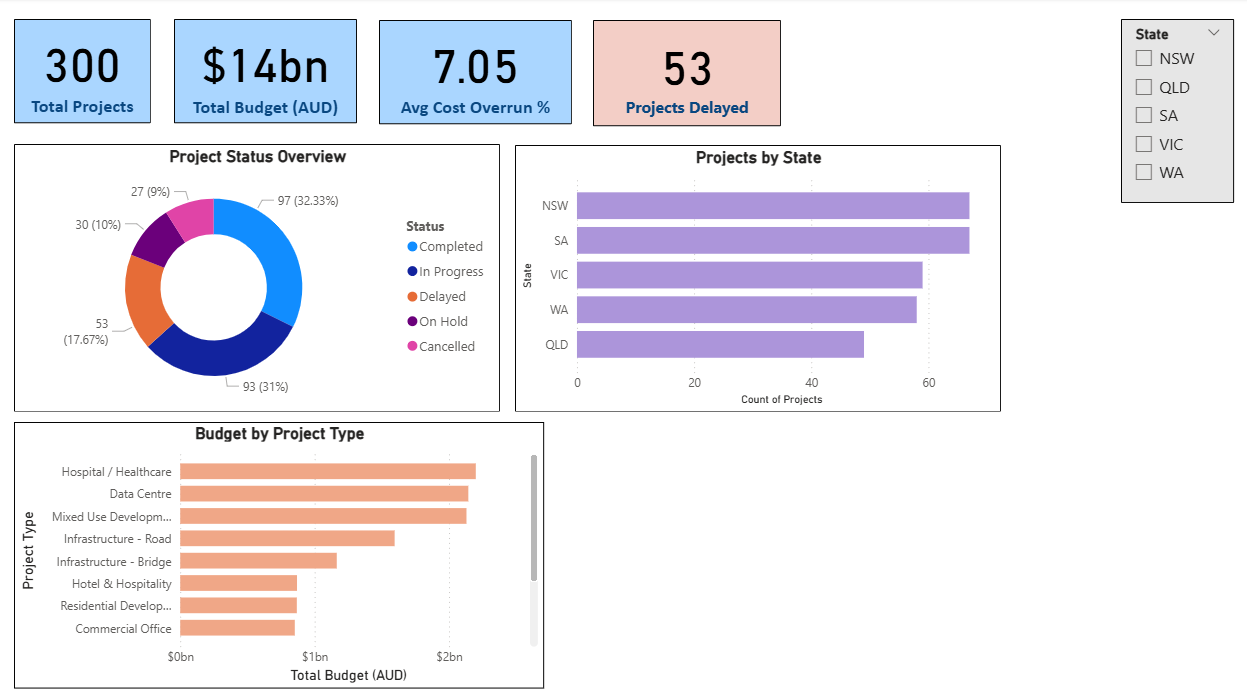

What the dashboard file says about the page in this screenshot:
{"tool":"powerbi","page":{"name":"Portfolio Overviw","canvas":[1280,720],"ordinal":0},"visuals":[{"type":"card","fields":{"Values":["CountNonNull(SiteBook_Projects.Project_ID)"]},"box":[18.3,21.4,139.3,105.7],"z":0},{"type":"card","fields":{"Values":["Sum(SiteBook_Projects.Budget_AUD)"]},"box":[180.9,21.8,186.1,106.1],"z":1000},{"type":"card","fields":{"Values":["Avg(SiteBook_Projects.Cost_Overrun_Pct)"]},"box":[389.4,22.4,196.2,105.7],"z":2000},{"type":"card","fields":{"Values":["SiteBook_Projects.Projects Delayed"]},"box":[607,22.4,191.1,107.8],"z":3000},{"type":"donutChart","title":"Project Status Overview","fields":{"Category":["SiteBook_Projects.Status"],"Y":["CountNonNull(SiteBook_Projects.Project_ID)"]},"box":[18.7,148.7,493.9,272.4],"z":4000},{"type":"clusteredBarChart","title":"Projects by State","fields":{"Category":["SiteBook_Projects.State"],"Y":["CountNonNull(SiteBook_Projects.Project_ID)"]},"box":[527.2,149.7,493.9,271.4],"z":5000},{"type":"clusteredBarChart","title":"Budget by Project Type","fields":{"Category":["SiteBook_Projects.Project_Type"],"Y":["Sum(SiteBook_Projects.Budget_AUD)"]},"box":[18.7,431.5,538.6,271.4],"z":6000},{"type":"slicer","fields":{"Values":["SiteBook_Projects.State"]},"box":[1143.8,21.8,115.4,187.2],"z":7000}]}

Visuals, with their boxes in screenshot pixels (x1, y1, x2, y2), scaled from the page's 1280x720 canvas onto the 1247x699 screenshot:
card - CountNonNull(SiteBook_Projects.Project_ID): <bbox>18, 21, 154, 123</bbox>
card - Sum(SiteBook_Projects.Budget_AUD): <bbox>176, 21, 358, 124</bbox>
card - Avg(SiteBook_Projects.Cost_Overrun_Pct): <bbox>379, 22, 571, 124</bbox>
card - SiteBook_Projects.Projects Delayed: <bbox>591, 22, 778, 126</bbox>
"Project Status Overview" donutChart: <bbox>18, 144, 499, 409</bbox>
"Projects by State" clusteredBarChart: <bbox>514, 145, 995, 409</bbox>
"Budget by Project Type" clusteredBarChart: <bbox>18, 419, 543, 682</bbox>
slicer - SiteBook_Projects.State: <bbox>1114, 21, 1227, 203</bbox>
